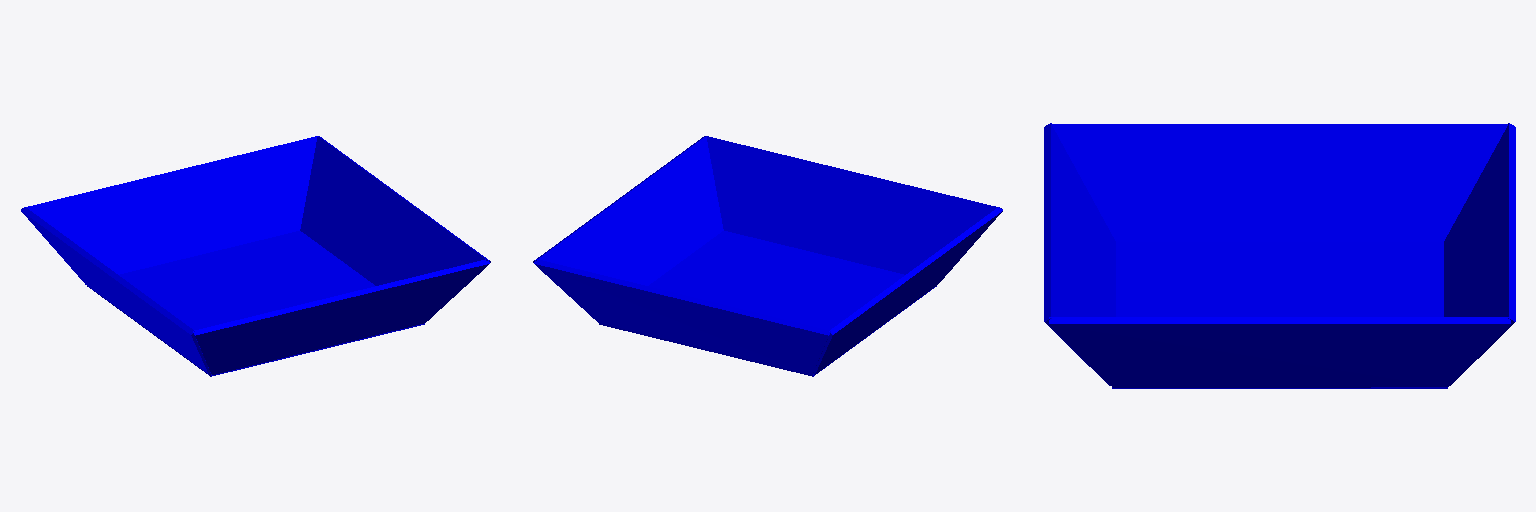
URDF robot description (tabletop):
<robot name="tabletop">
  <link name="base_link">
    <inertial>
      <origin rpy="0 0 0" xyz="0 0 0"/>
      <mass value="0"/>
      <inertia ixx="0" ixy="0" ixz="0" iyy="0" iyz="0" izz="0"/>
    </inertial>
    <visual>
      <origin rpy="0 0 0" xyz="0 0 0"/>
      <geometry>
        <mesh filename="tray_textured.obj" scale="0.5 0.5 0.5"/>
      </geometry>
      <material name="tray_material">
        <color rgba="0 0 1 1"/>
      </material>
    </visual>
    <collision>
      <origin rpy="0 0 0" xyz="0 0 0.005"/>
      <geometry>
	<box size=".6 .6 .02"/>
      </geometry>
    </collision>
    <collision>
      <origin rpy="0 0.575469961 0" xyz="0.25 0 0.059"/>
      <geometry>
	<box size=".02 .6 .15"/>
      </geometry>
    </collision>
    <collision>
      <origin rpy="0 -0.575469961 0" xyz="-0.25 0 0.059"/>
      <geometry>
	<box size=".02 .6 .15"/>
      </geometry>
    </collision>
    <collision>
      <origin rpy="0.575469961 0 0" xyz="0 -0.25 0.059"/>
      <geometry>
	<box size=".6 .02 .15"/>
      </geometry>
    </collision>
    <collision>
      <origin rpy="-0.575469961 0 0" xyz="0 0.25 0.059"/>
      <geometry>
	<box size=".6 .02 .15"/>
      </geometry>
    </collision>

  </link>
</robot>

--- Facts derived from the render (not from the file) ---
The picture shows the robot from 3 angles, left to right: view 1: azimuth 30°, elevation 25°; view 2: azimuth 150°, elevation 25°; view 3: azimuth 270°, elevation 25°; orthographic projection.
Robot: tabletop — 1 links, 0 joints (none); root link base_link; default pose: every joint at zero.
Links seen in each view (by area): view 1: base_link; view 2: base_link; view 3: base_link.
Link boxes in pixels (left/top/right/bottom): base_link: left=21, top=136, right=490, bottom=376; base_link: left=533, top=136, right=1002, bottom=376; base_link: left=1044, top=123, right=1515, bottom=388.
Bounding box of the posed robot: 0.5901 × 0.5901 × 0.1356 m (x, y, z).
1 mesh visuals loaded from 1 distinct referenced files (1 OBJ).